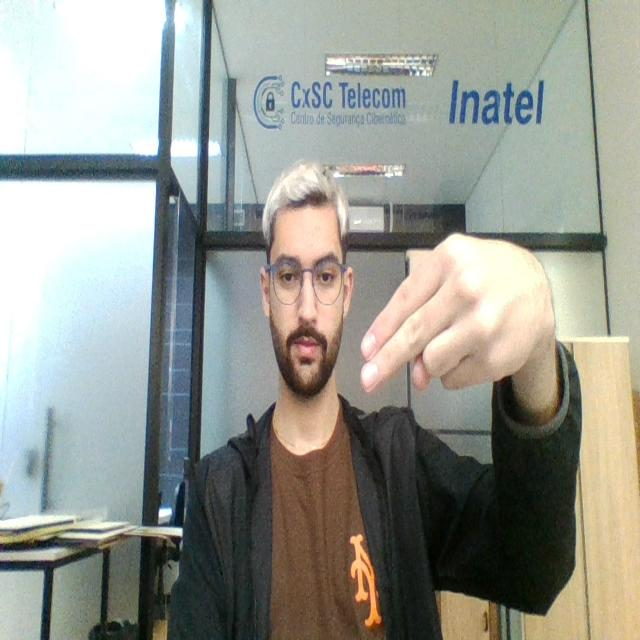N: (356, 224, 555, 412)
